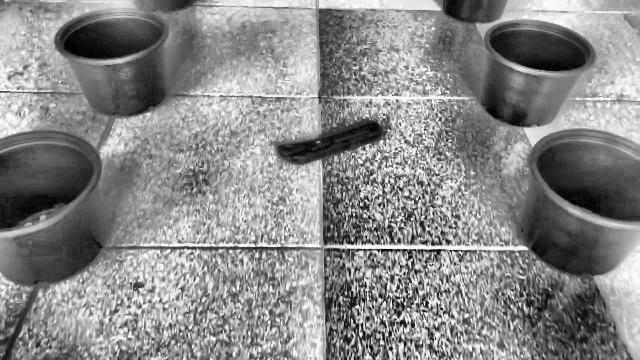pot: (520, 130, 640, 270), (54, 0, 194, 118), (0, 132, 108, 270), (480, 20, 596, 128)
